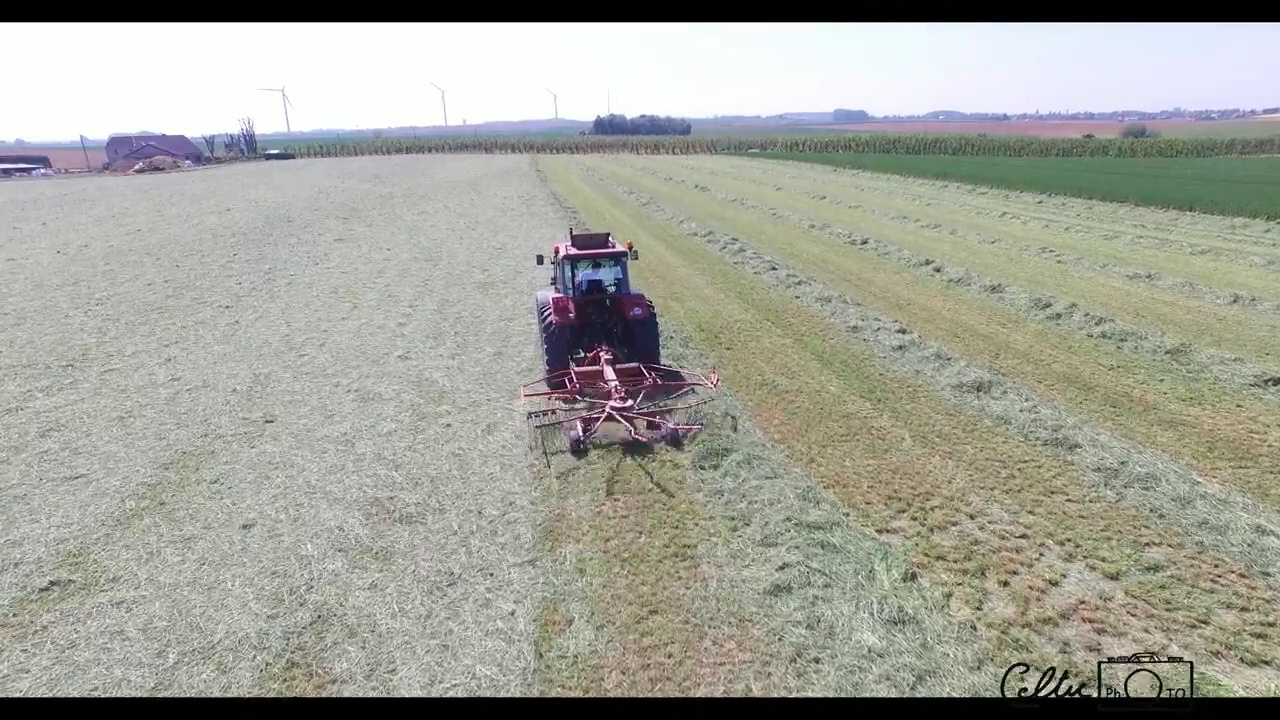traktor: (528, 227, 669, 370)
